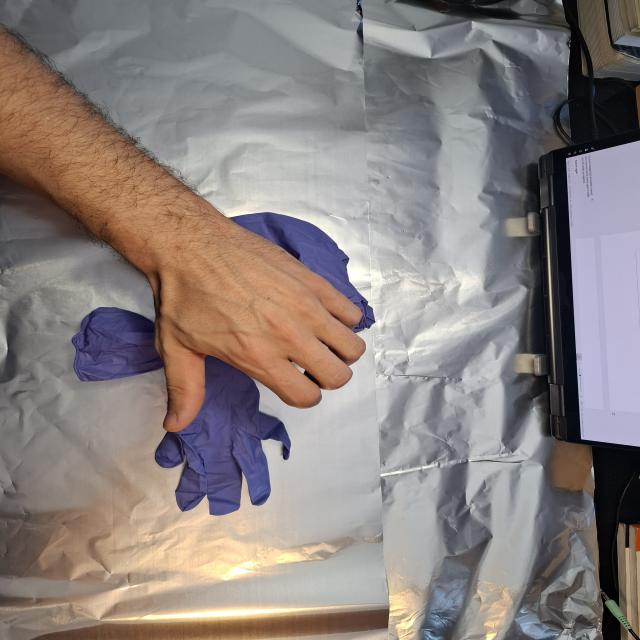glove_off: (124, 212, 369, 434)
